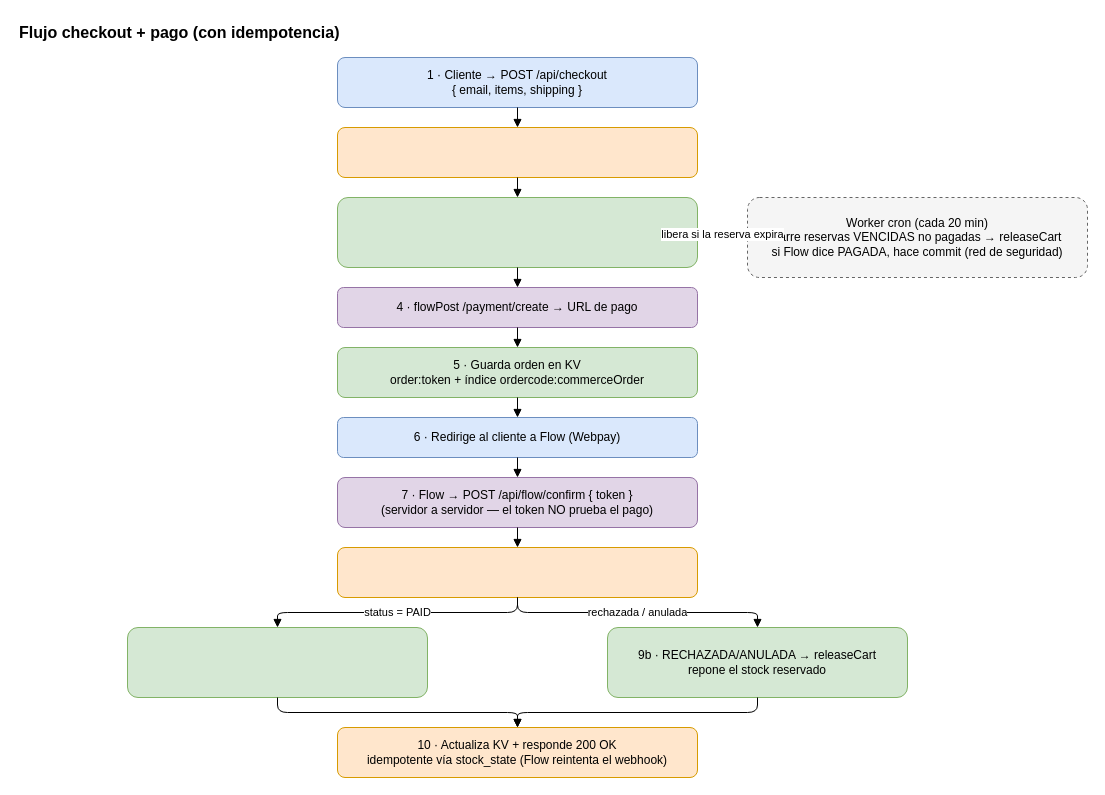
Some shapes in this 1105 by 795 pixel diagram are drawn without their labels. Here are the shapes that lost their labels. From the top down, the centre of each, then its label:
At (x=517, y=152): "2 · priceCart (Contentful) + computeShipping (Chilexpress / Blue) — server-side".
At (x=517, y=232): "3 · reserveCart en D1 UPDATE … WHERE qty >= n (atómico) stock_state = reserved".
At (x=517, y=572): "8 · flowGet /payment/getStatus (firmado) = ÚNICA fuente de verdad del pago".
At (x=277, y=662): "9a · PAGADA → commitCart consume la reserva fulfillment = en_preparacion".
